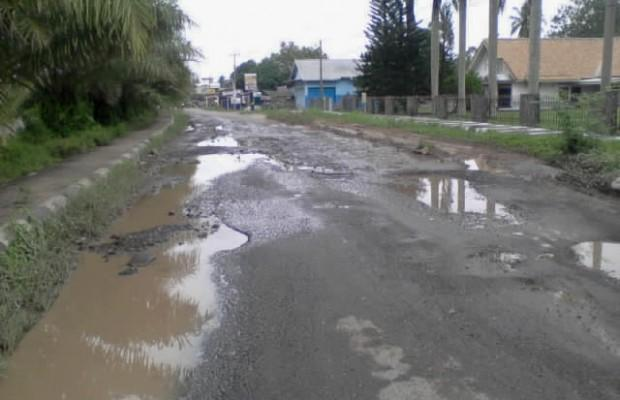Pothole: (0, 95, 272, 400), (344, 97, 620, 289)
